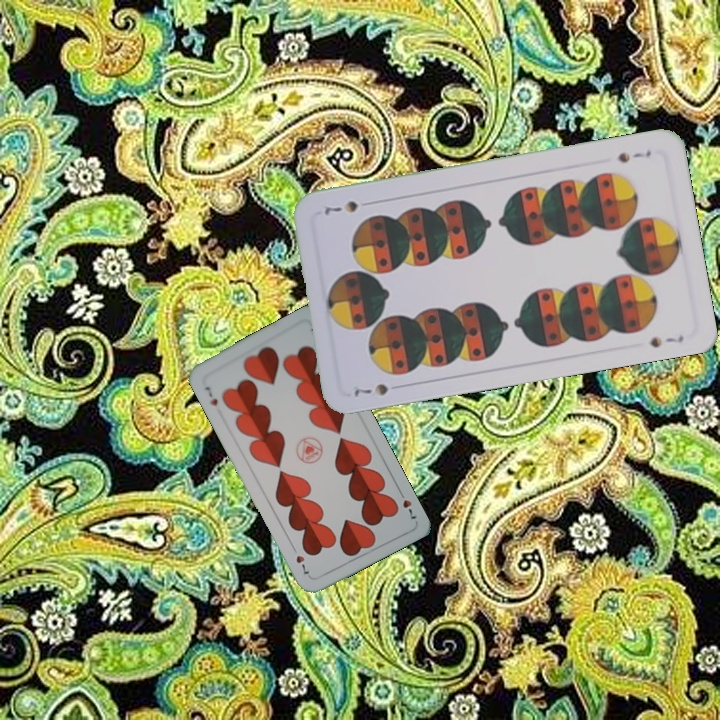H7: (394, 485, 419, 522), (201, 382, 220, 409)
S7: (350, 379, 391, 400), (613, 146, 654, 166)
